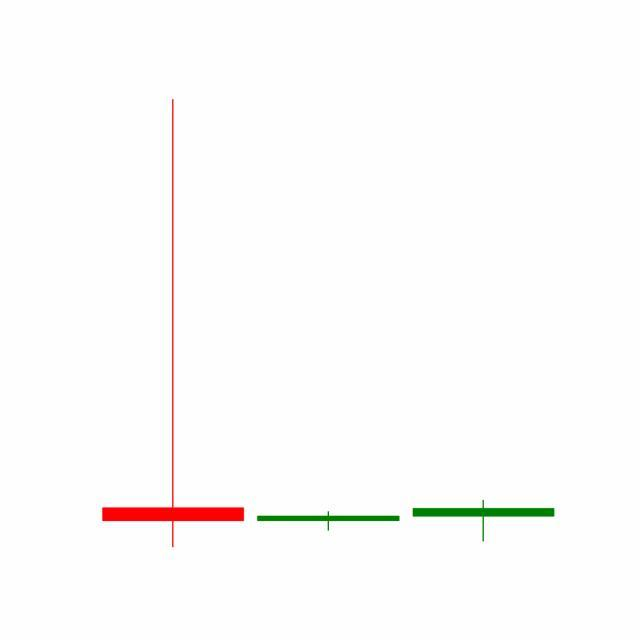Spinning Top: (406, 500, 562, 543)
